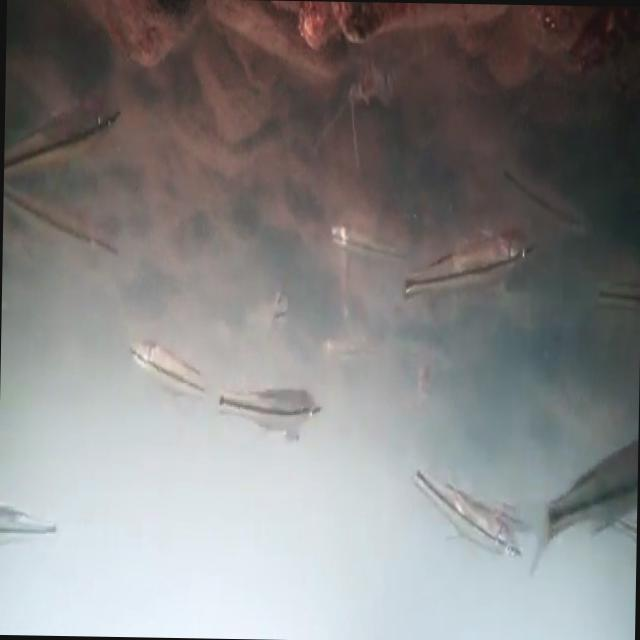Cakil Baligi: (405, 459, 523, 570), (400, 223, 536, 309), (212, 377, 323, 445)
